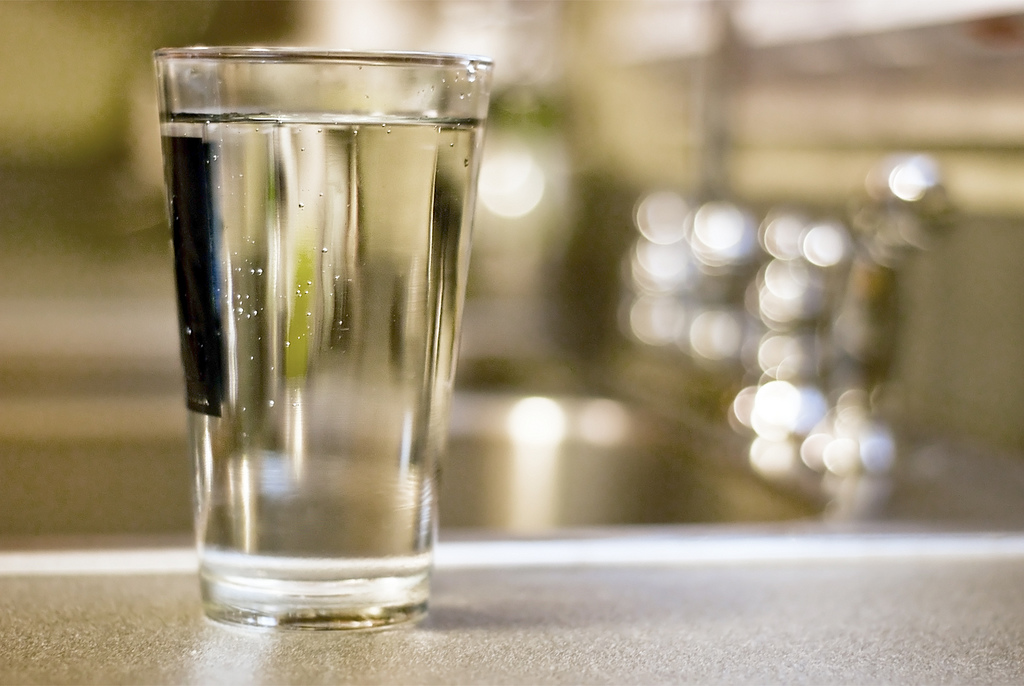glass of water: (160, 38, 463, 640)
